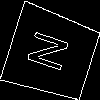N: (26, 28, 79, 77)
